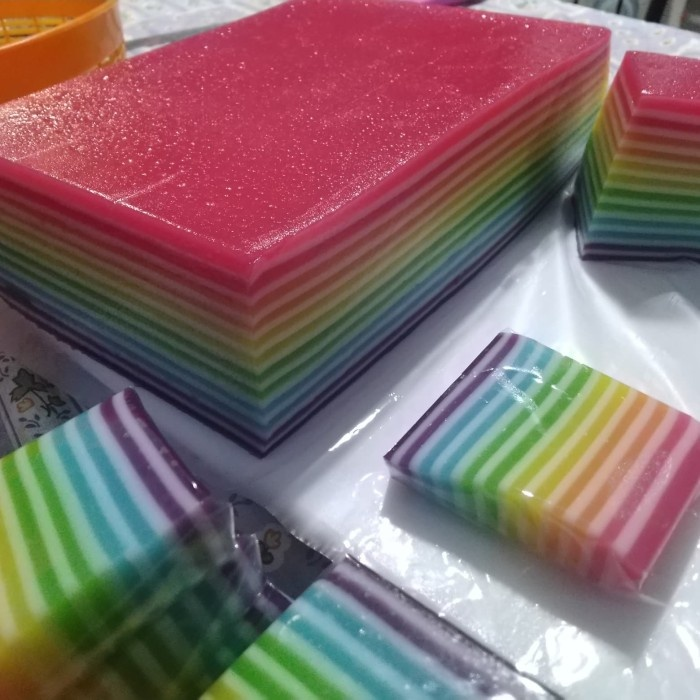kue_lapis_pelangi: (384, 328, 696, 595), (2, 160, 264, 461)
